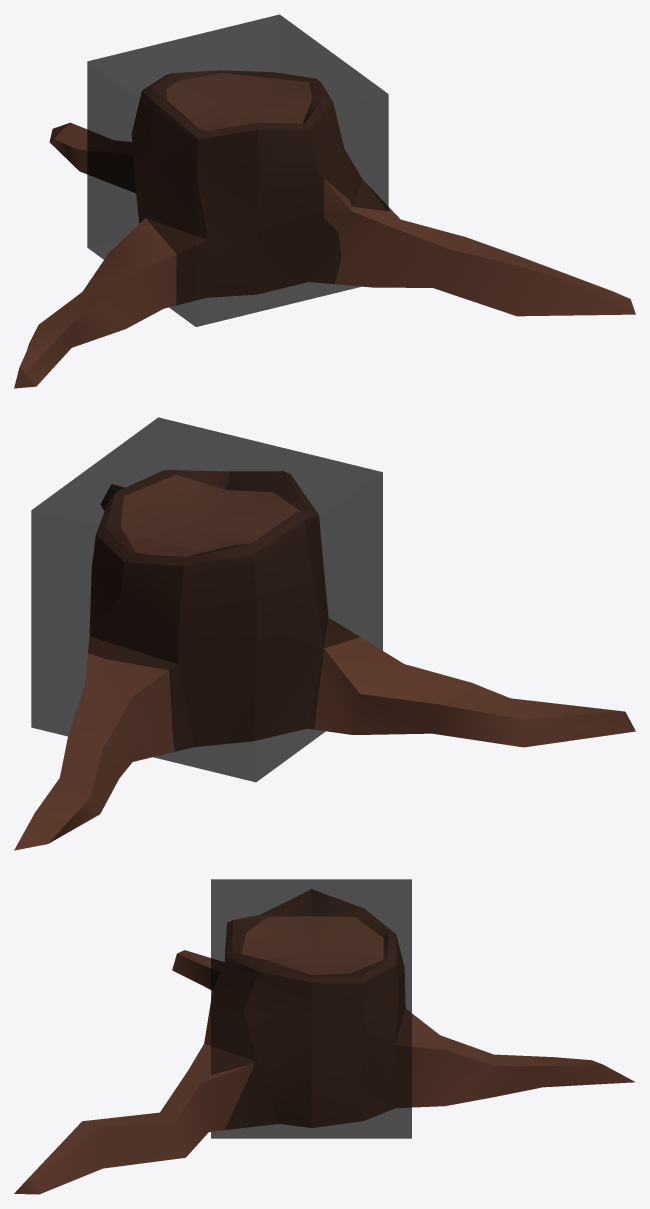
Rendered from Stump.fbx.
The picture shows the model from 3 angles, top to bottom: view 1: azimuth 30°, elevation 25°; view 2: azimuth 150°, elevation 25°; view 3: azimuth 270°, elevation 25°; orthographic projection. The views are drawn at different scales.
Visible parts, largest first — view 1: Stump, Stump_BBox; view 2: Stump_BBox, Stump; view 3: Stump, Stump_BBox.
Boxes of the visible parts, x1,y1,x2,y2 form: Stump: [14, 70, 635, 388]; Stump_BBox: [87, 14, 388, 326]; Stump_BBox: [31, 417, 382, 782]; Stump: [14, 470, 635, 850]; Stump: [14, 889, 635, 1194]; Stump_BBox: [211, 879, 411, 1138].
Size of the model in its own units: 7.96 by 2.65 by 8.67.
2 materials, 1 textured.
